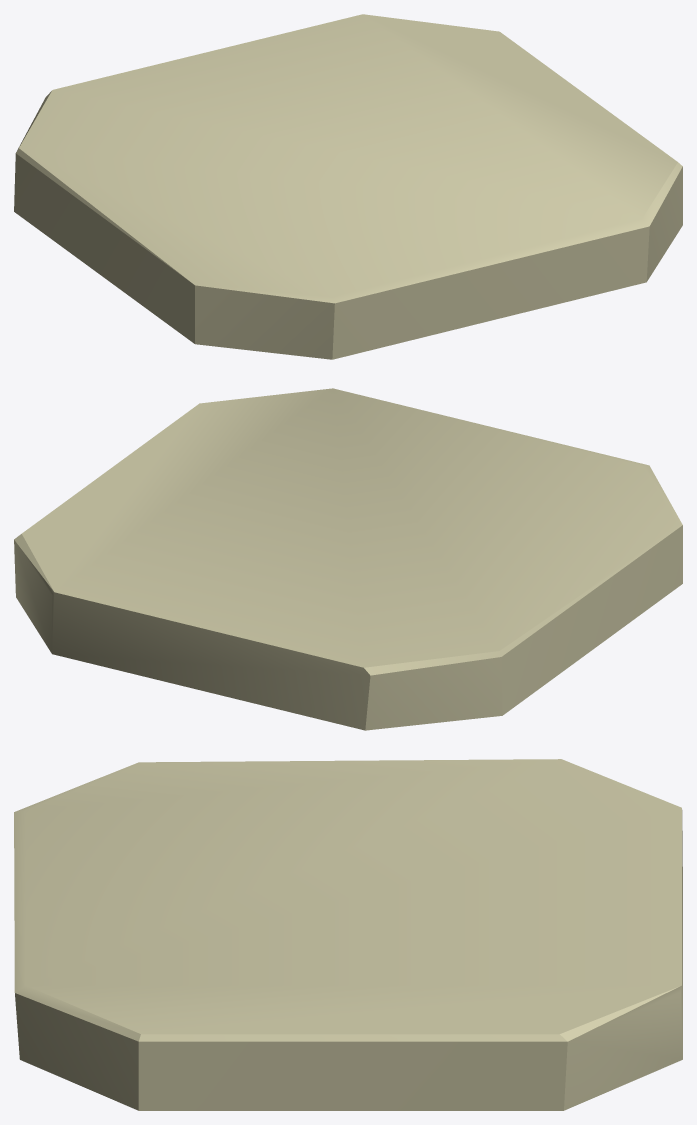
Rendered from Misc_PizzaBox_02.glb.
3 views of the same model, one above another, from view 1: azimuth 30°, elevation 25°; view 2: azimuth 150°, elevation 25°; view 3: azimuth 270°, elevation 25° (orthographic). The views are drawn at different scales.
Visible parts, largest first — view 1: Misc_PizzaBox_02.001; view 2: Misc_PizzaBox_02.001; view 3: Misc_PizzaBox_02.001.
Part boxes in pixels (x1=…): Misc_PizzaBox_02.001: x1=14, y1=14, x2=682, y2=359; Misc_PizzaBox_02.001: x1=14, y1=388, x2=682, y2=730; Misc_PizzaBox_02.001: x1=14, y1=759, x2=682, y2=1110.
Bounding box in the file's own units: 0.346 × 0.0429 × 0.3497.
